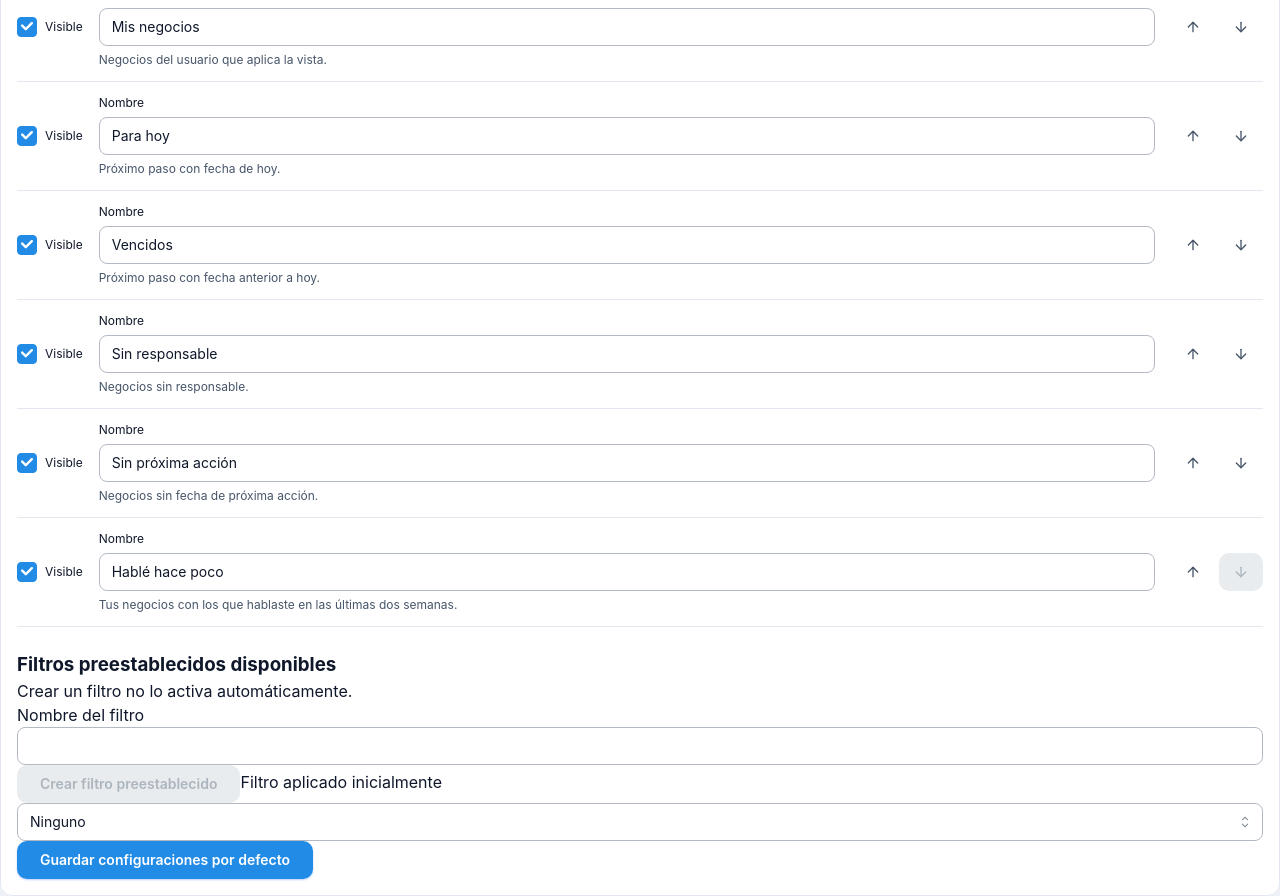
Test case: BusinessListDefaults grouped column references › shows an error when saving team defaults fails
This screenshot has width=1280, height=896.
(page scrolled)
Click the button "Guardar configuraciones por defecto" at [165, 860], box [17,841,313,879]
(page scrolled)
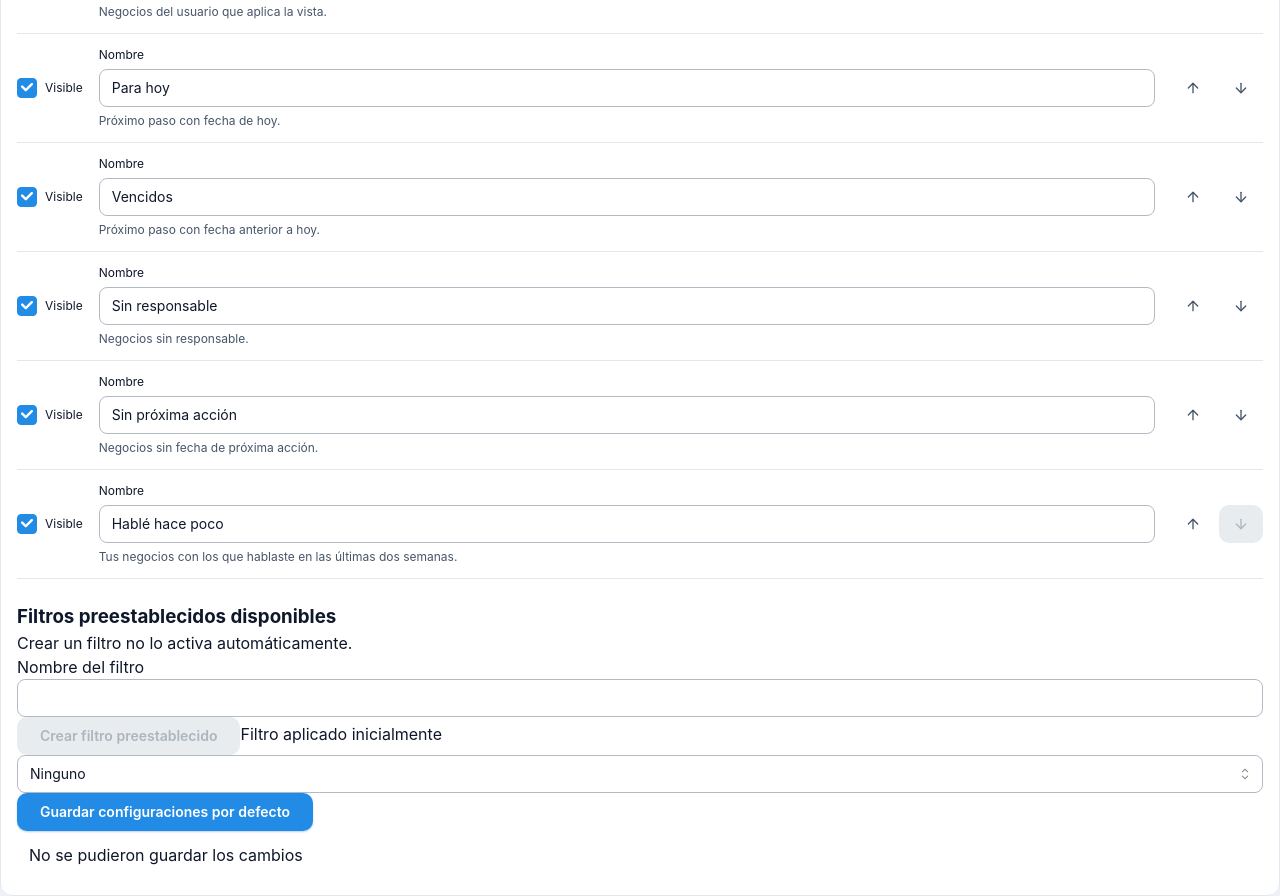
expect the message reads "No se pudieron guardar los cambios": met, box [29,845,303,865]
